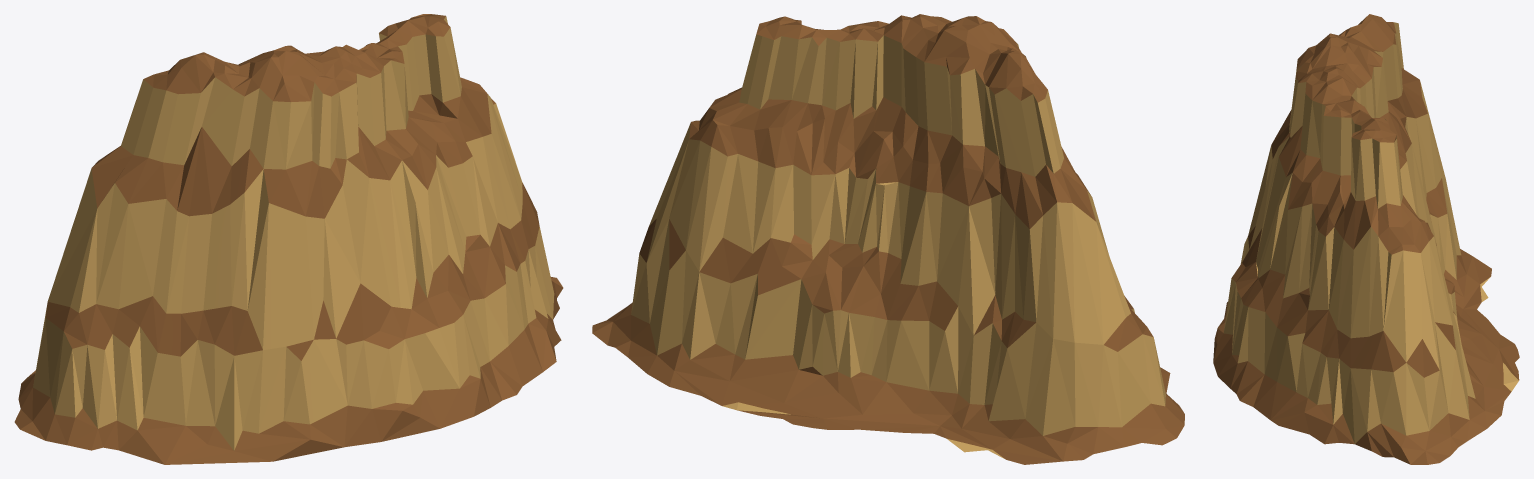
The model's file is Island3.fbx.
The picture shows the model from 3 angles, left to right: view 1: azimuth 30°, elevation 25°; view 2: azimuth 150°, elevation 25°; view 3: azimuth 270°, elevation 25°; orthographic projection. The views are drawn at different scales.
Parts seen in each view (by area): view 1: Mounting_3; view 2: Mounting_3; view 3: Mounting_3.
Part boxes in pixels (left/top/right/bottom): Mounting_3: left=14, top=14, right=563, bottom=464; Mounting_3: left=592, top=14, right=1184, bottom=464; Mounting_3: left=1213, top=14, right=1519, bottom=464.
Bounding box in the file's own units: 2470 × 1480 × 1390.
